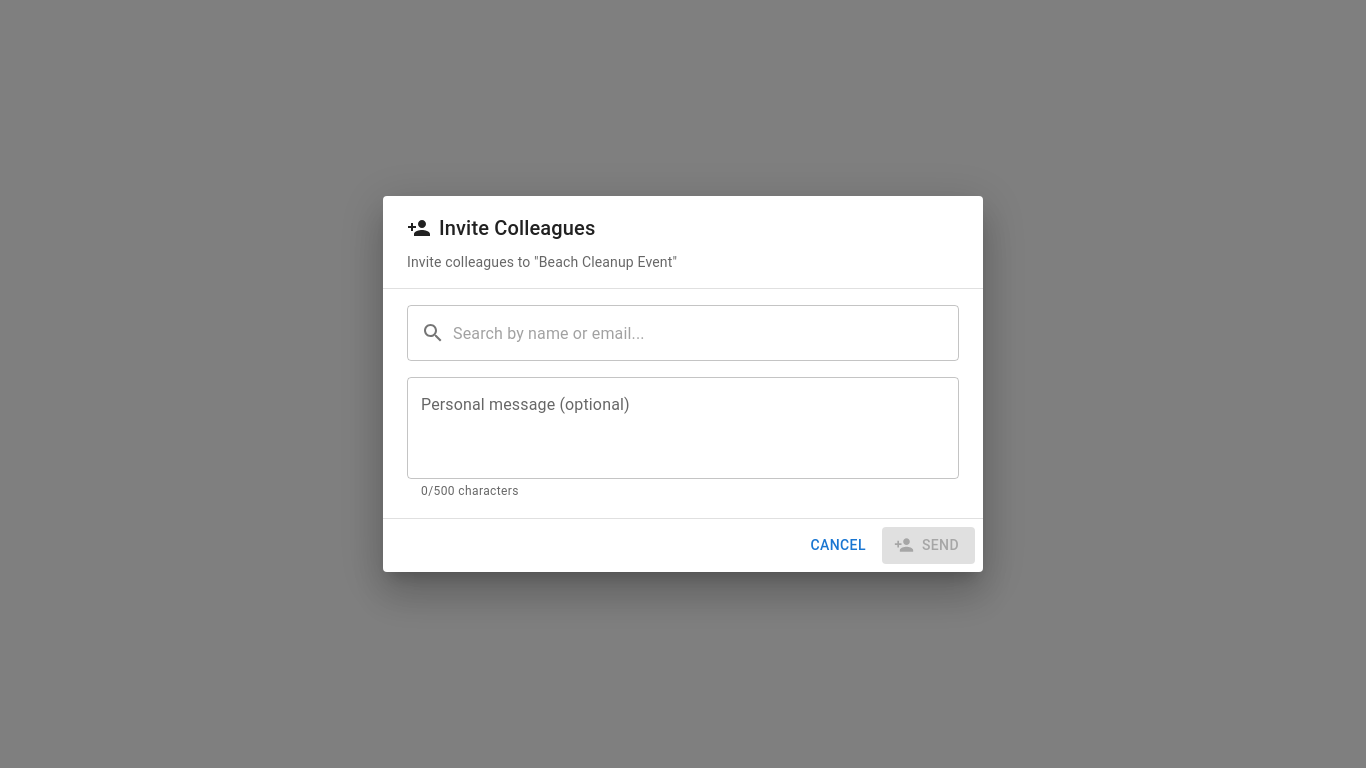
Test: InviteColleaguesDialog Component › should show error when sending invitations fails
Type "test" into the field with placeholder "Search by name or email..." at x=706, y=333, box [453, 305, 959, 361]
Wait 500 ms
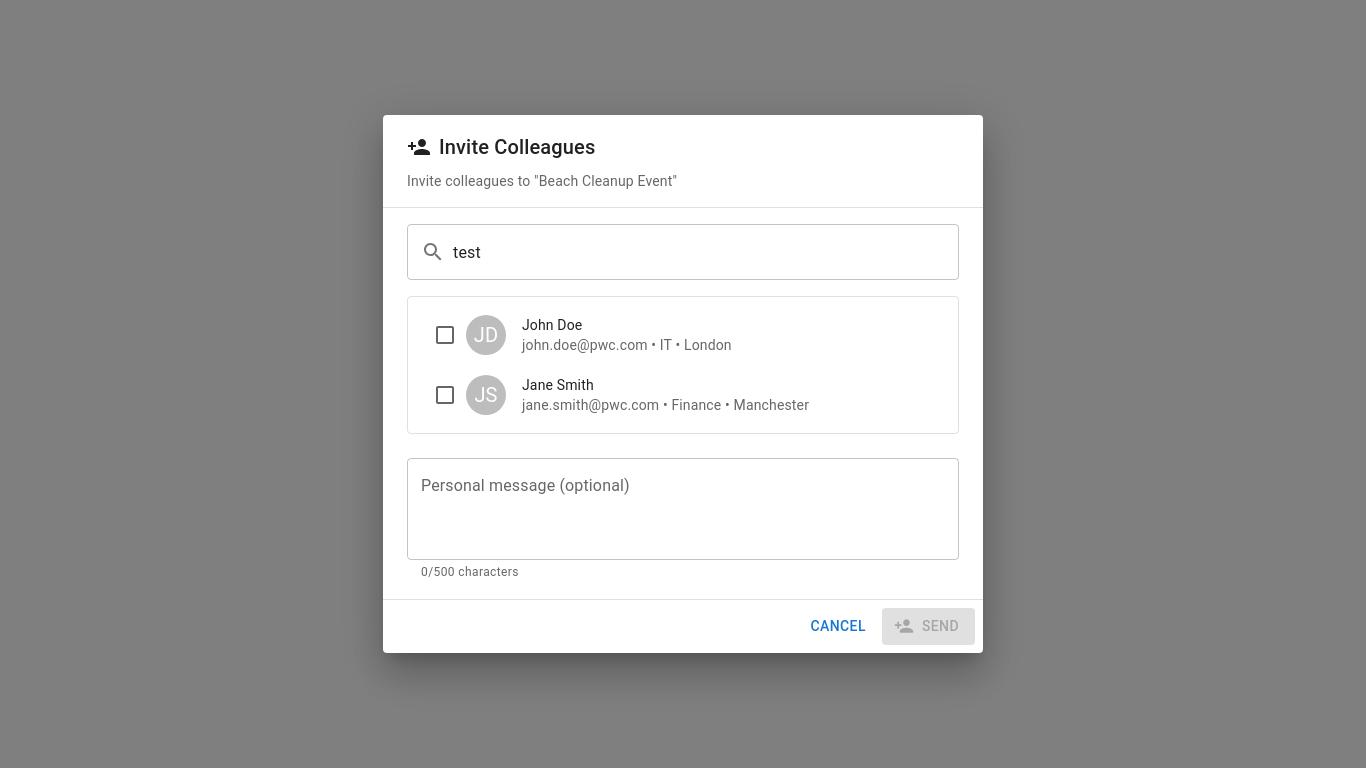
Check: the text "John Doe" is shown, box [522, 317, 582, 333]
Click the 1st checkbox at x=445, y=335, box [433, 323, 457, 347]
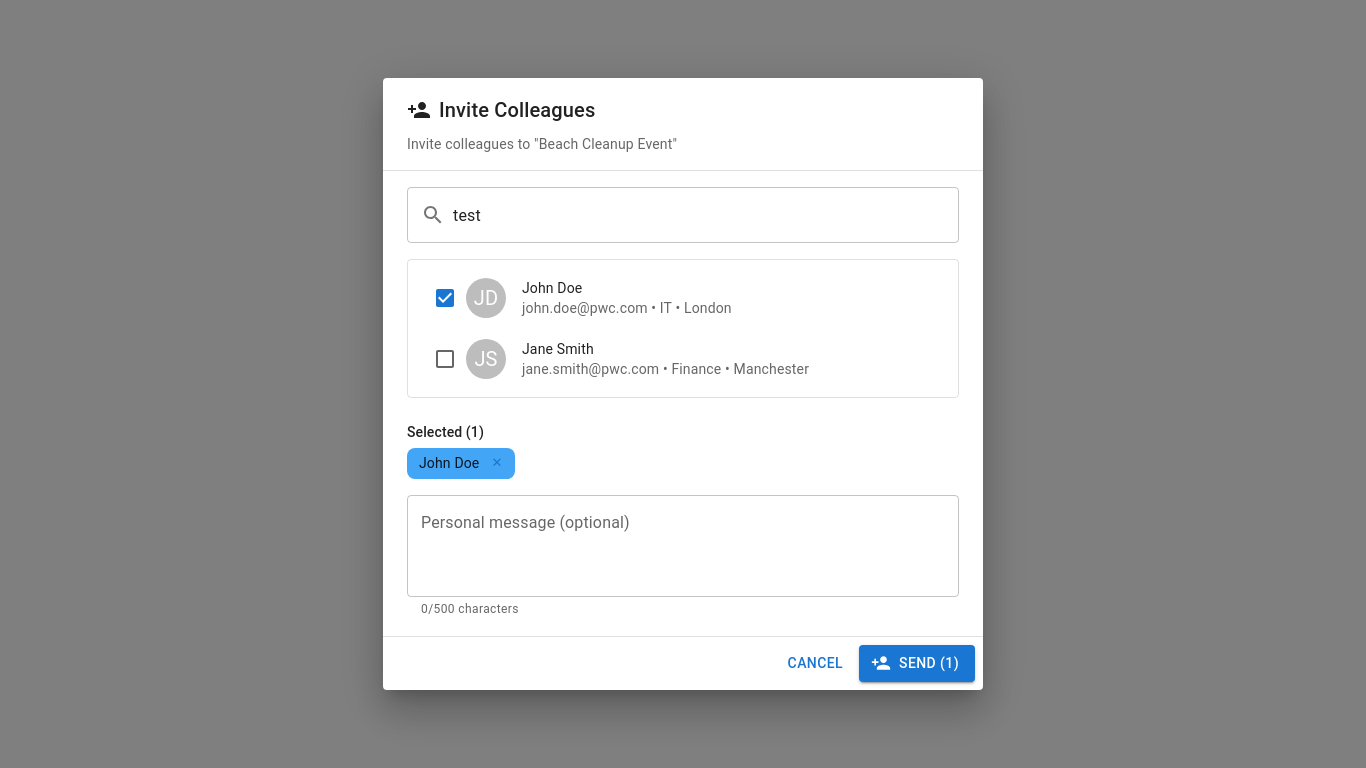
Click the button "Send (1)" at x=917, y=663, box [859, 645, 975, 682]
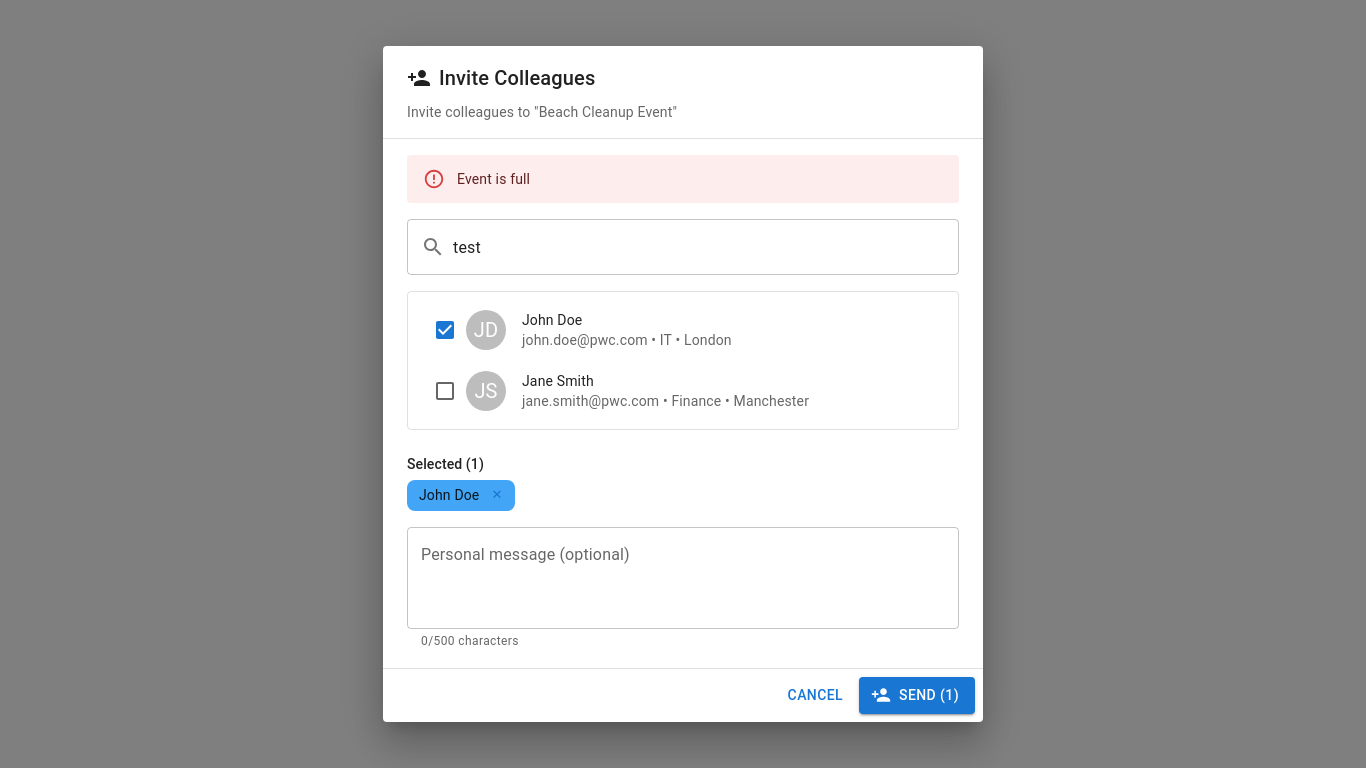
Check: the text "Event is full" is shown, box [457, 172, 530, 188]
